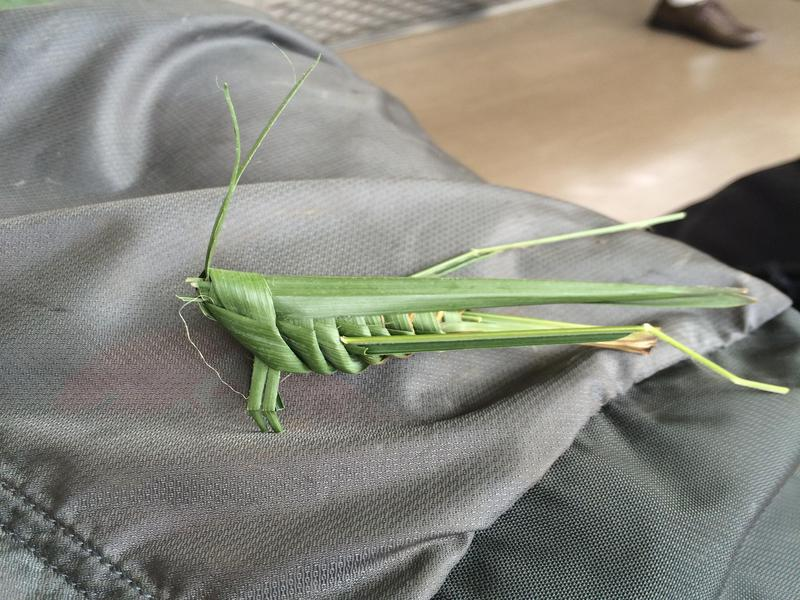Grasshopper: (148, 203, 754, 433)
